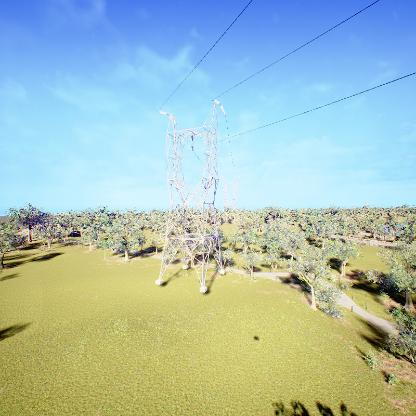tower: (153, 97, 230, 294)
